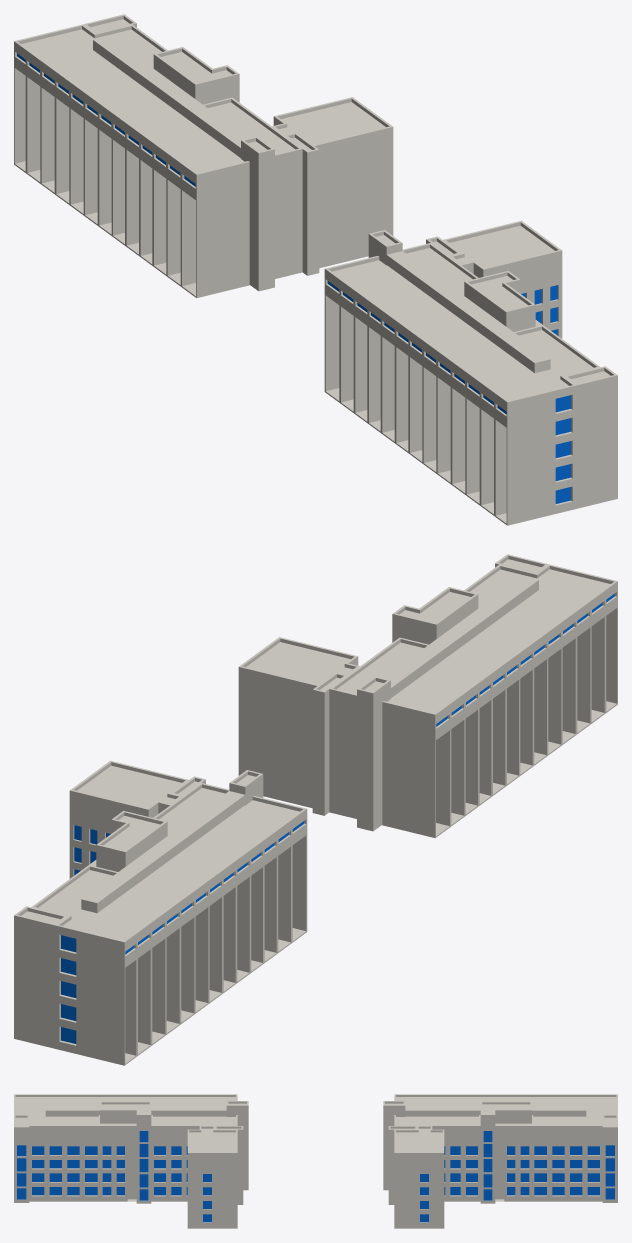
The model's file is 경상,국제문화관.fbx.
3 views of the same model, one above another, from view 1: azimuth 30°, elevation 25°; view 2: azimuth 150°, elevation 25°; view 3: azimuth 270°, elevation 25° (orthographic). The views are drawn at different scales.
Visible parts, largest first — view 1: Symmetry_1, Cube_80, Cube_136; view 2: Symmetry_1, Cube_80, Cube_136; view 3: Symmetry_1, Cube_76, Cube_77, Cube_78, Cube_79, Cube_82.
Part boxes in pixels (x1,y1,x2,y2): Symmetry_1: (14, 14, 617, 525); Cube_80: (555, 395, 570, 503); Cube_136: (17, 53, 506, 414); Symmetry_1: (14, 554, 617, 1065); Cube_80: (61, 935, 76, 1043); Cube_136: (125, 593, 614, 954); Symmetry_1: (14, 1094, 617, 1228); Cube_76: (32, 1146, 599, 1195); Cube_77: (154, 1146, 477, 1195); Cube_78: (139, 1131, 492, 1200); Cube_79: (17, 1145, 614, 1199); Cube_82: (203, 1174, 428, 1222).
Size of the model in its own units: 599 by 422 by 2600.
